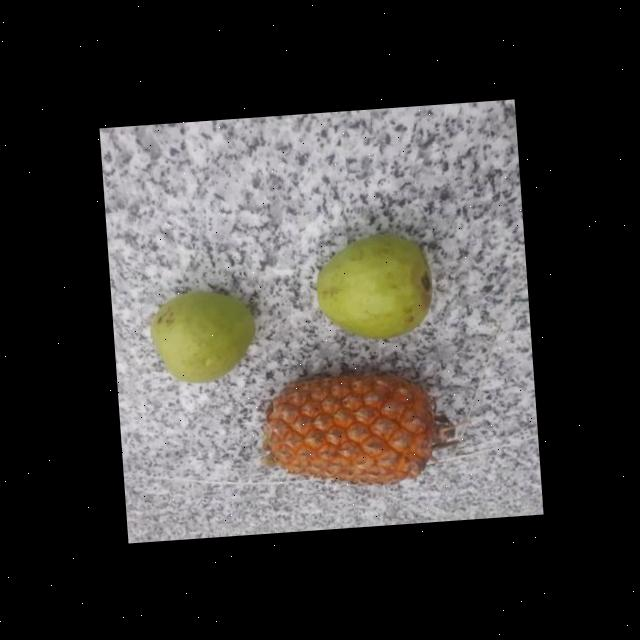guava: (314, 234, 438, 340), (147, 287, 261, 383)
pineapple: (258, 359, 450, 490)
